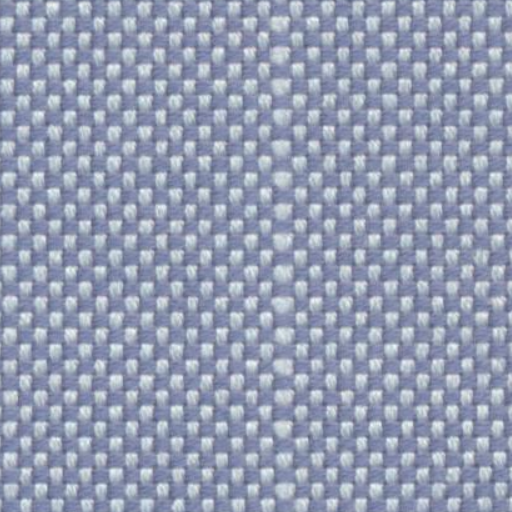TuoSha: (240, 18, 324, 494)
